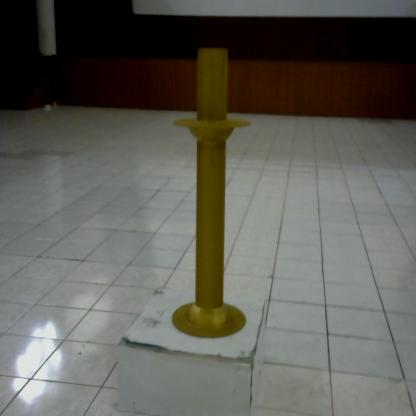pole: (166, 36, 258, 347)
